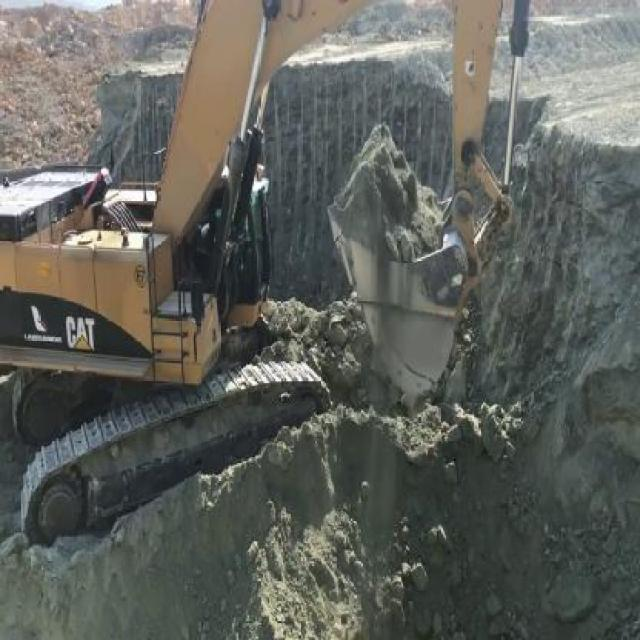Excavator: (0, 0, 534, 554)
